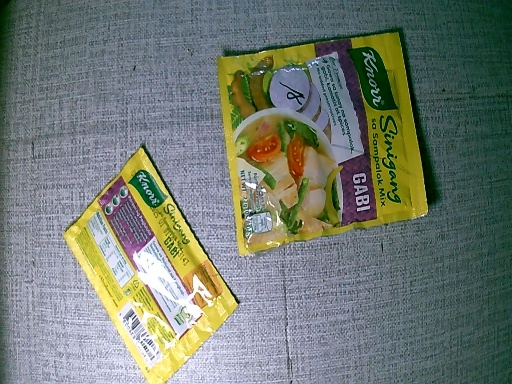plastic: (215, 31, 428, 257), (62, 147, 243, 383)
